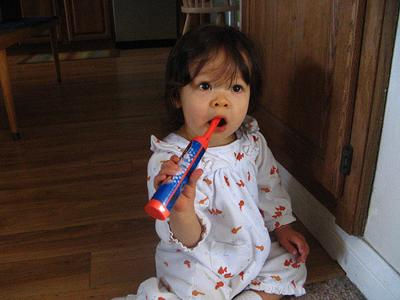person: (116, 28, 311, 300)
